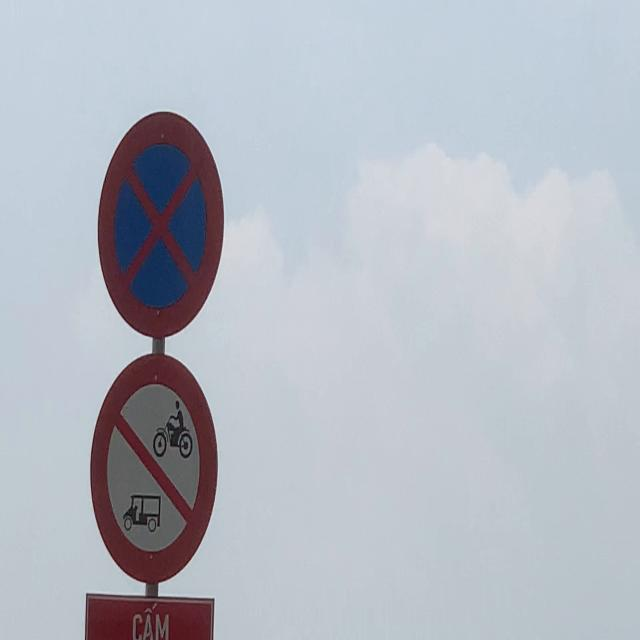Cam dung va do: (98, 112, 225, 338)
